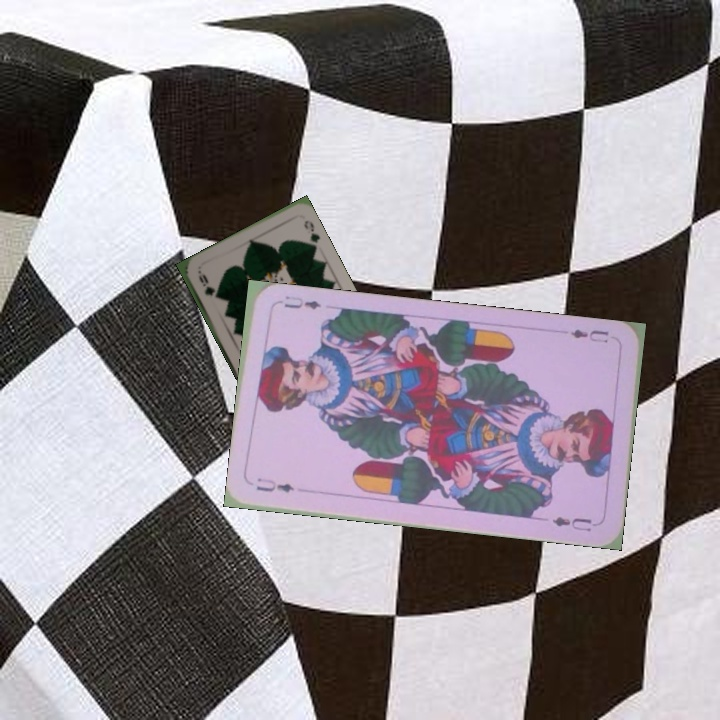EU: (566, 324, 612, 346), (252, 474, 297, 496)
G9: (194, 268, 220, 302)
